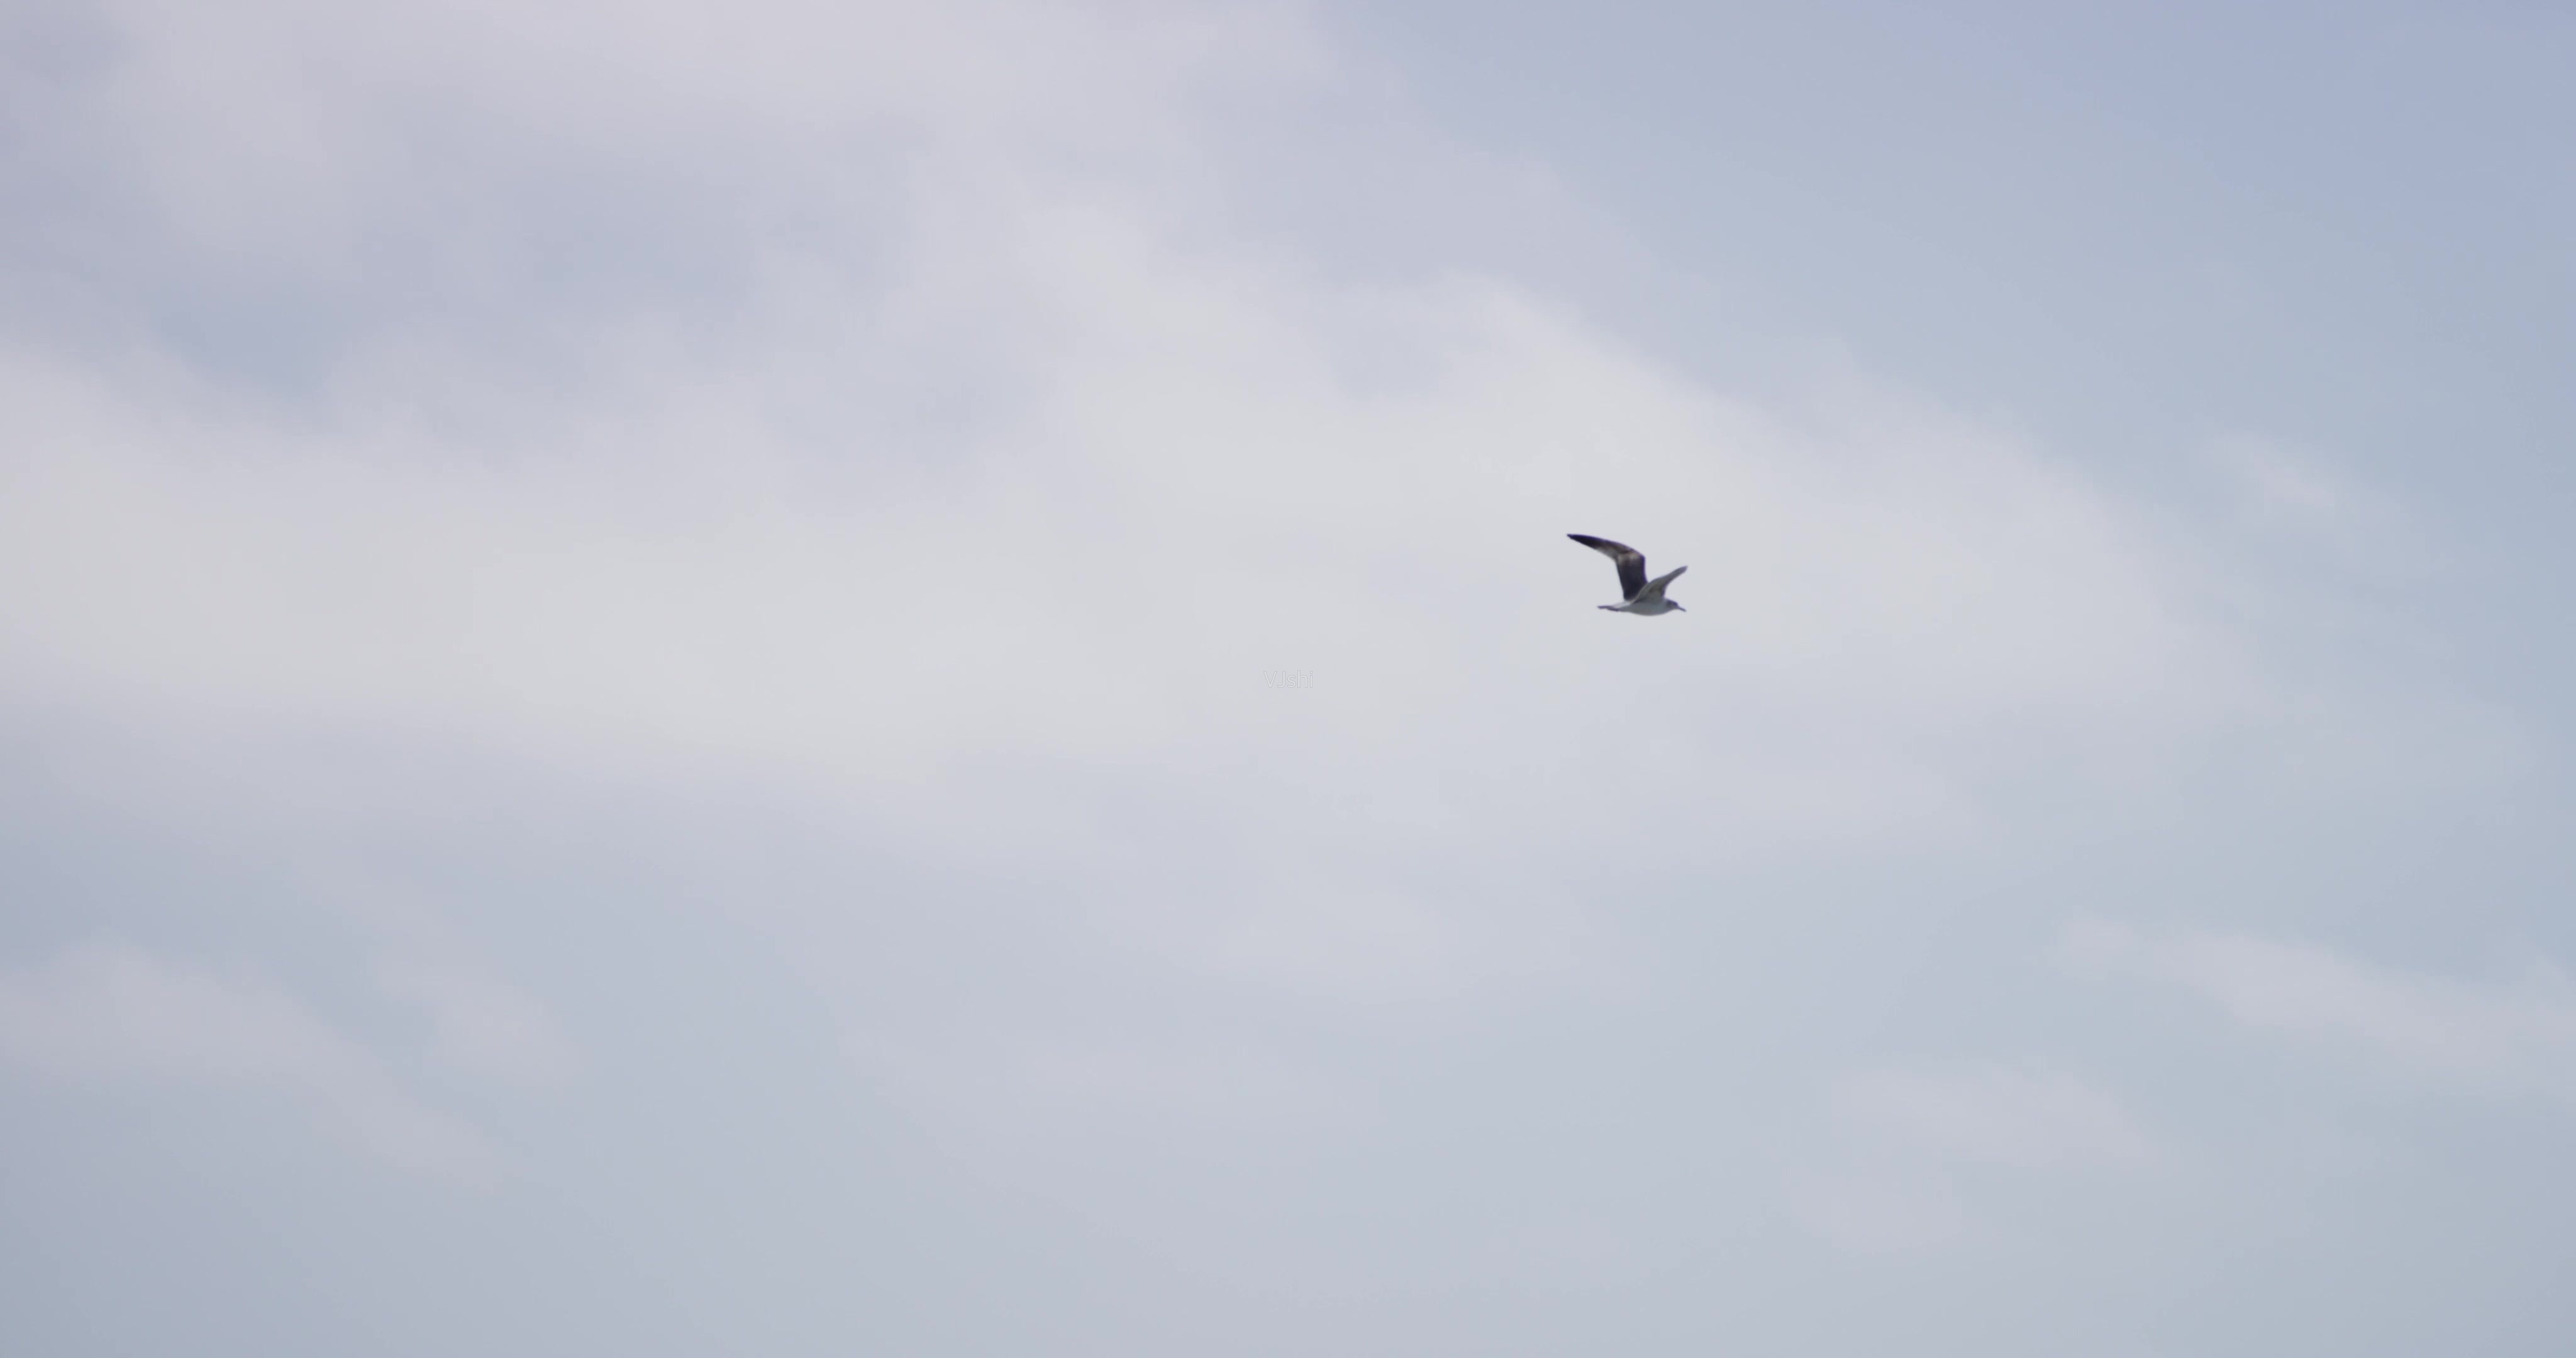warship: (1562, 511, 1721, 627)
